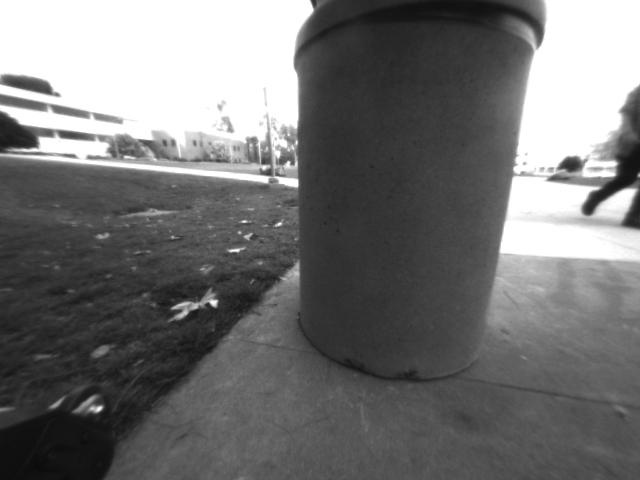trashcan: (283, 1, 565, 389)
